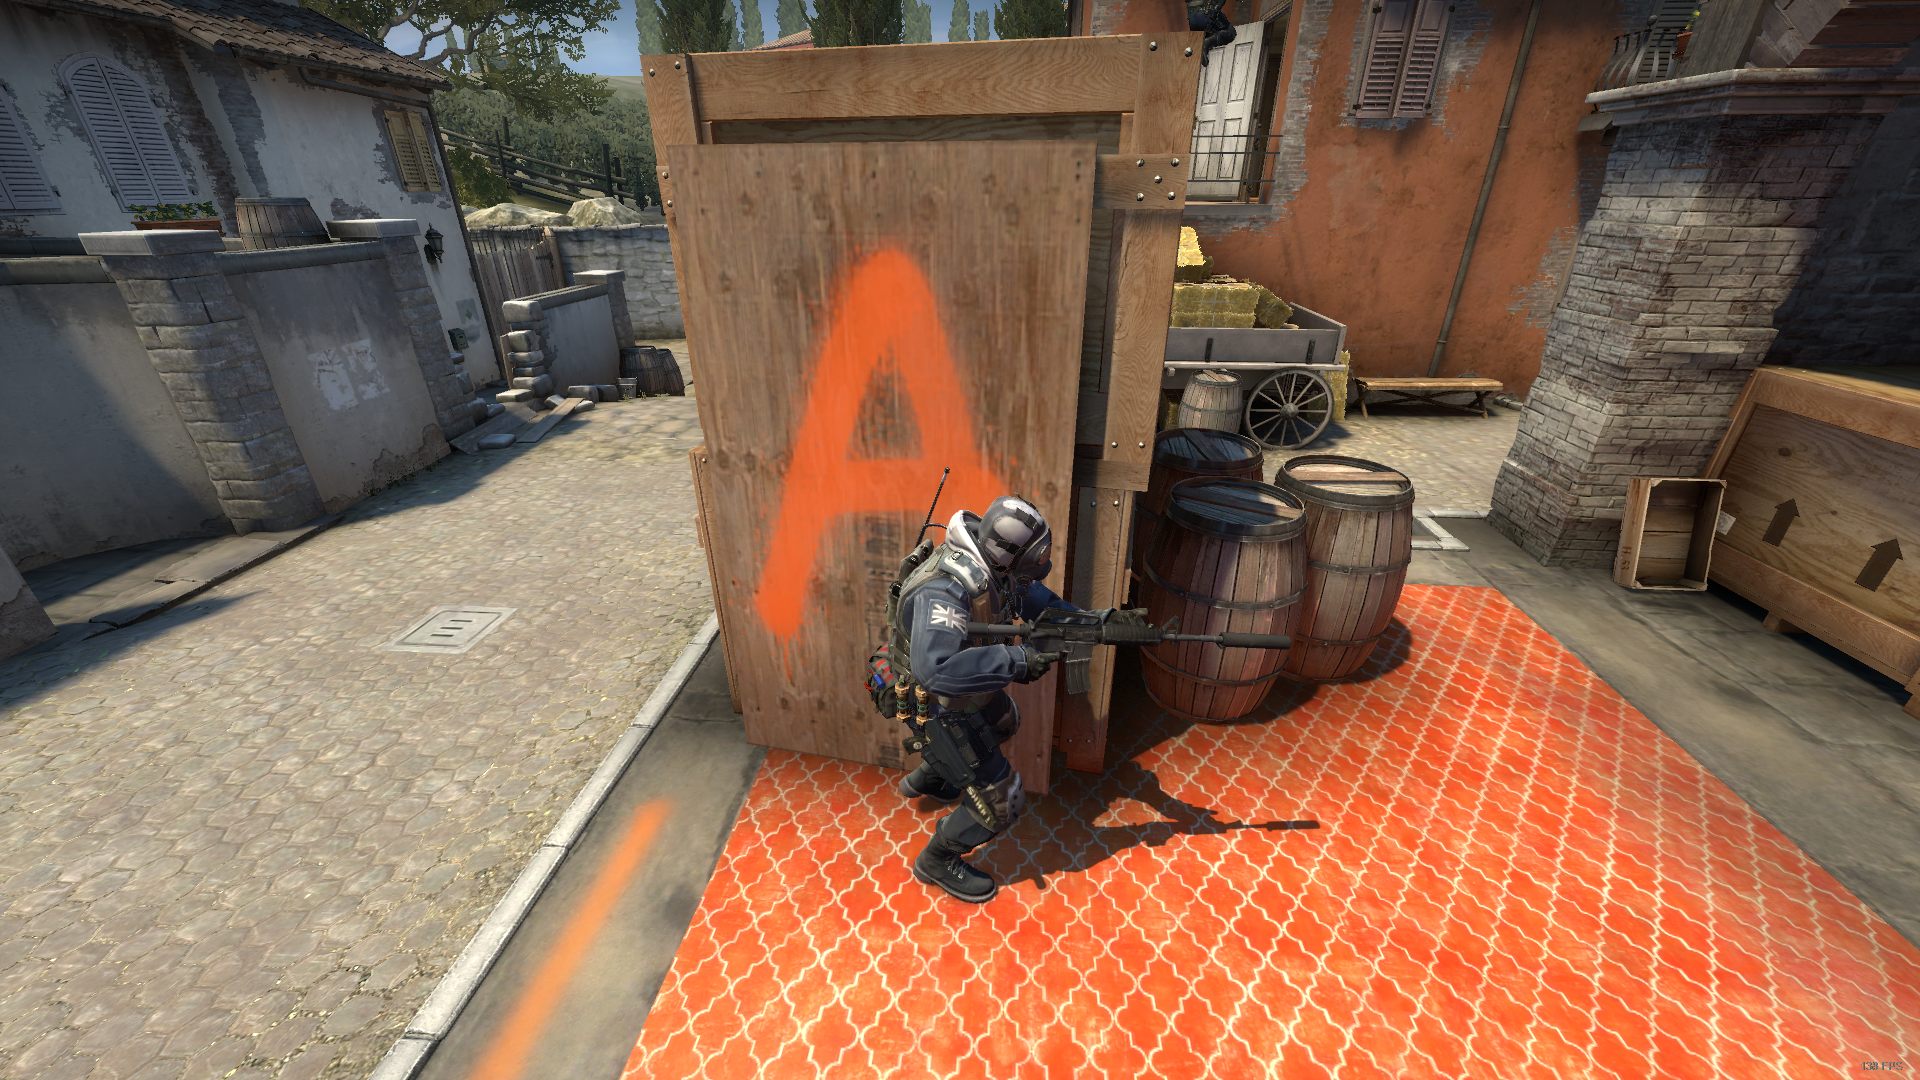ct: (872, 495, 1141, 901)
